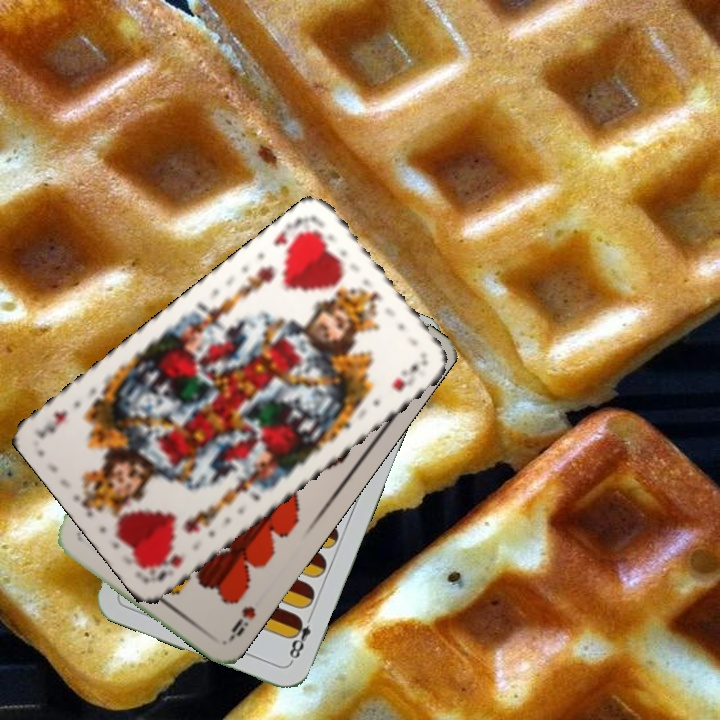E8: (285, 609, 316, 665)
H9: (225, 602, 259, 643)
HK: (270, 212, 319, 255), (148, 550, 186, 584)
